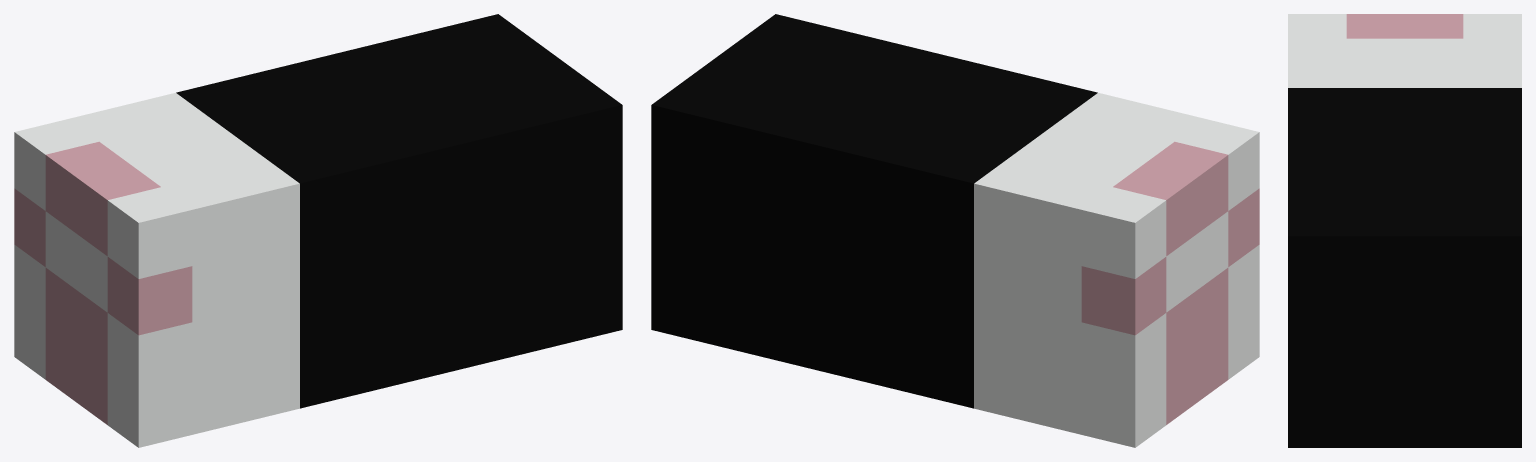
The model's file is pata_brazo.obj.
3 renders of one model, left to right at view 1: azimuth 30°, elevation 25°; view 2: azimuth 150°, elevation 25°; view 3: azimuth 270°, elevation 25°, orthographic. The views are drawn at different scales.
Size of the model in its own units: 0.9 by 0.4 by 0.4.
Materials: 1 (1 with a texture image).
